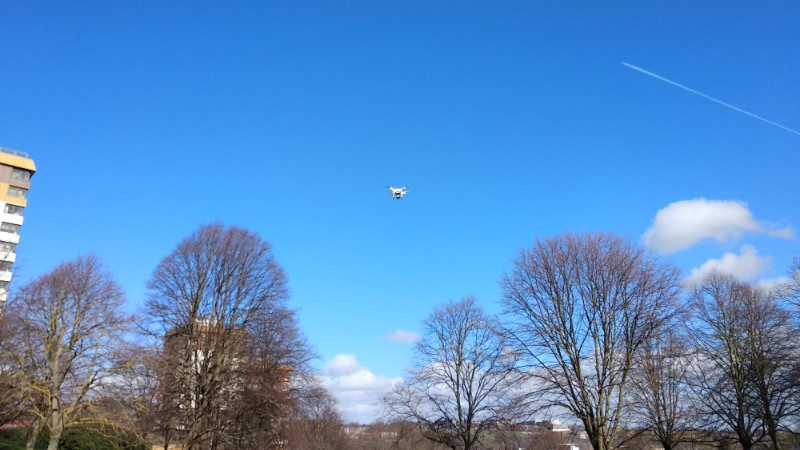drone: (386, 184, 410, 202)
